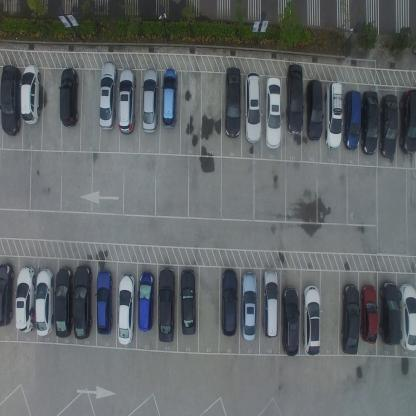car: (72, 262, 93, 339), (0, 63, 21, 136), (264, 75, 284, 149), (15, 263, 36, 333), (379, 280, 401, 345), (54, 264, 73, 338), (302, 284, 321, 357), (158, 265, 176, 342), (281, 284, 300, 356), (97, 60, 116, 132), (58, 66, 80, 128), (19, 63, 41, 125), (117, 272, 135, 346), (285, 62, 303, 136), (244, 71, 262, 144), (224, 66, 242, 139), (340, 283, 358, 356), (35, 267, 54, 336), (398, 283, 416, 353), (180, 266, 198, 335), (220, 269, 238, 337), (325, 82, 343, 150), (379, 95, 398, 159), (118, 69, 136, 136), (240, 271, 257, 341), (305, 77, 323, 143), (359, 284, 378, 344), (96, 269, 113, 335), (362, 90, 379, 156), (137, 271, 155, 332), (343, 89, 361, 150), (263, 268, 278, 340), (400, 88, 416, 155), (142, 68, 158, 134), (161, 67, 178, 129), (0, 260, 15, 328)
